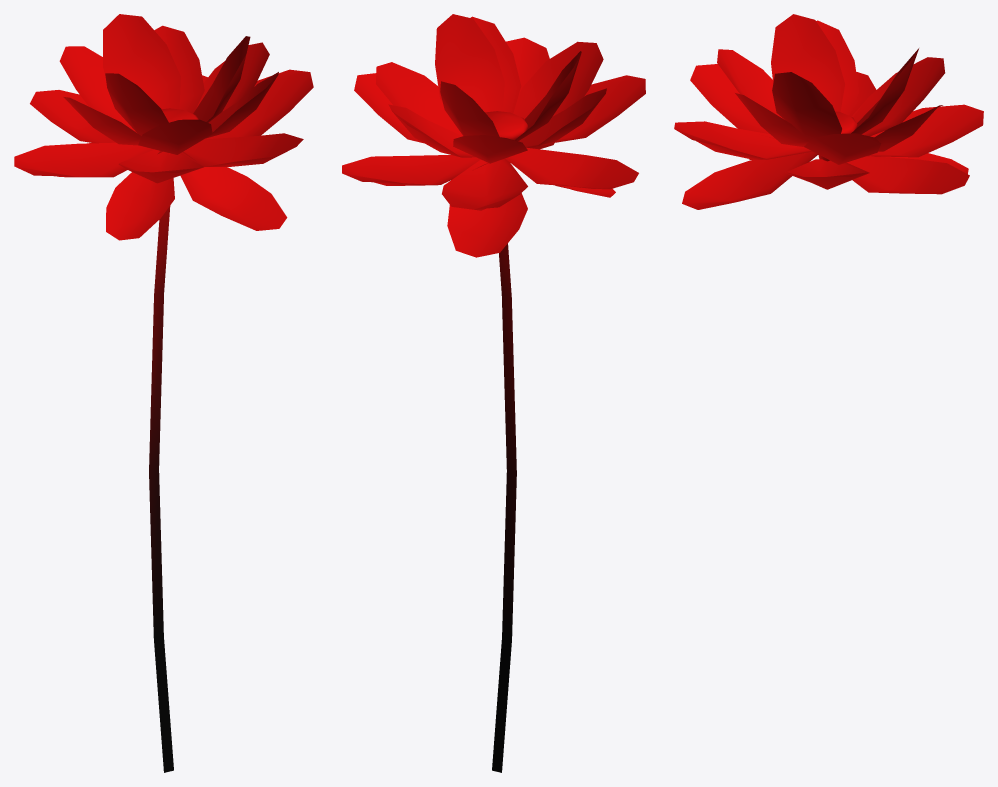
File: SM_Lotus_02_LOD0.fbx
3 renders of one model, left to right at view 1: azimuth 30°, elevation 25°; view 2: azimuth 150°, elevation 25°; view 3: azimuth 270°, elevation 25°, orthographic.
Visible parts, largest first — view 1: Lotus_02_LOD0; view 2: Lotus_02_LOD0; view 3: Lotus_02_LOD0.
Part boxes in pixels (box(x1,y1,x2,y2)): Lotus_02_LOD0: box(14, 14, 313, 772); Lotus_02_LOD0: box(342, 14, 645, 772); Lotus_02_LOD0: box(674, 14, 983, 209).
Bounding box in the file's own units: 90.08 × 220 × 84.65.
